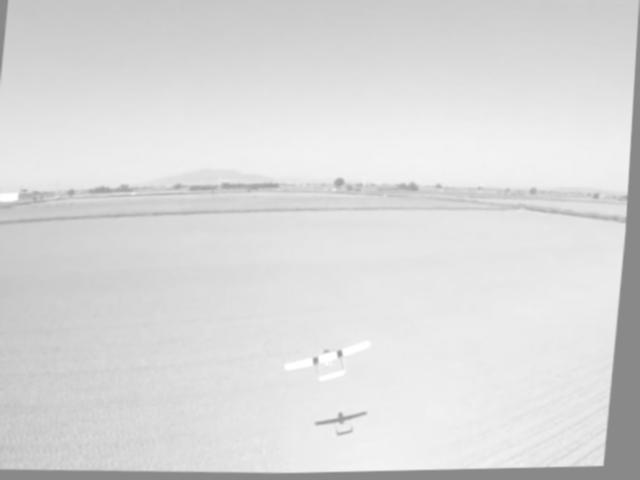hedef: (280, 329, 380, 396)
